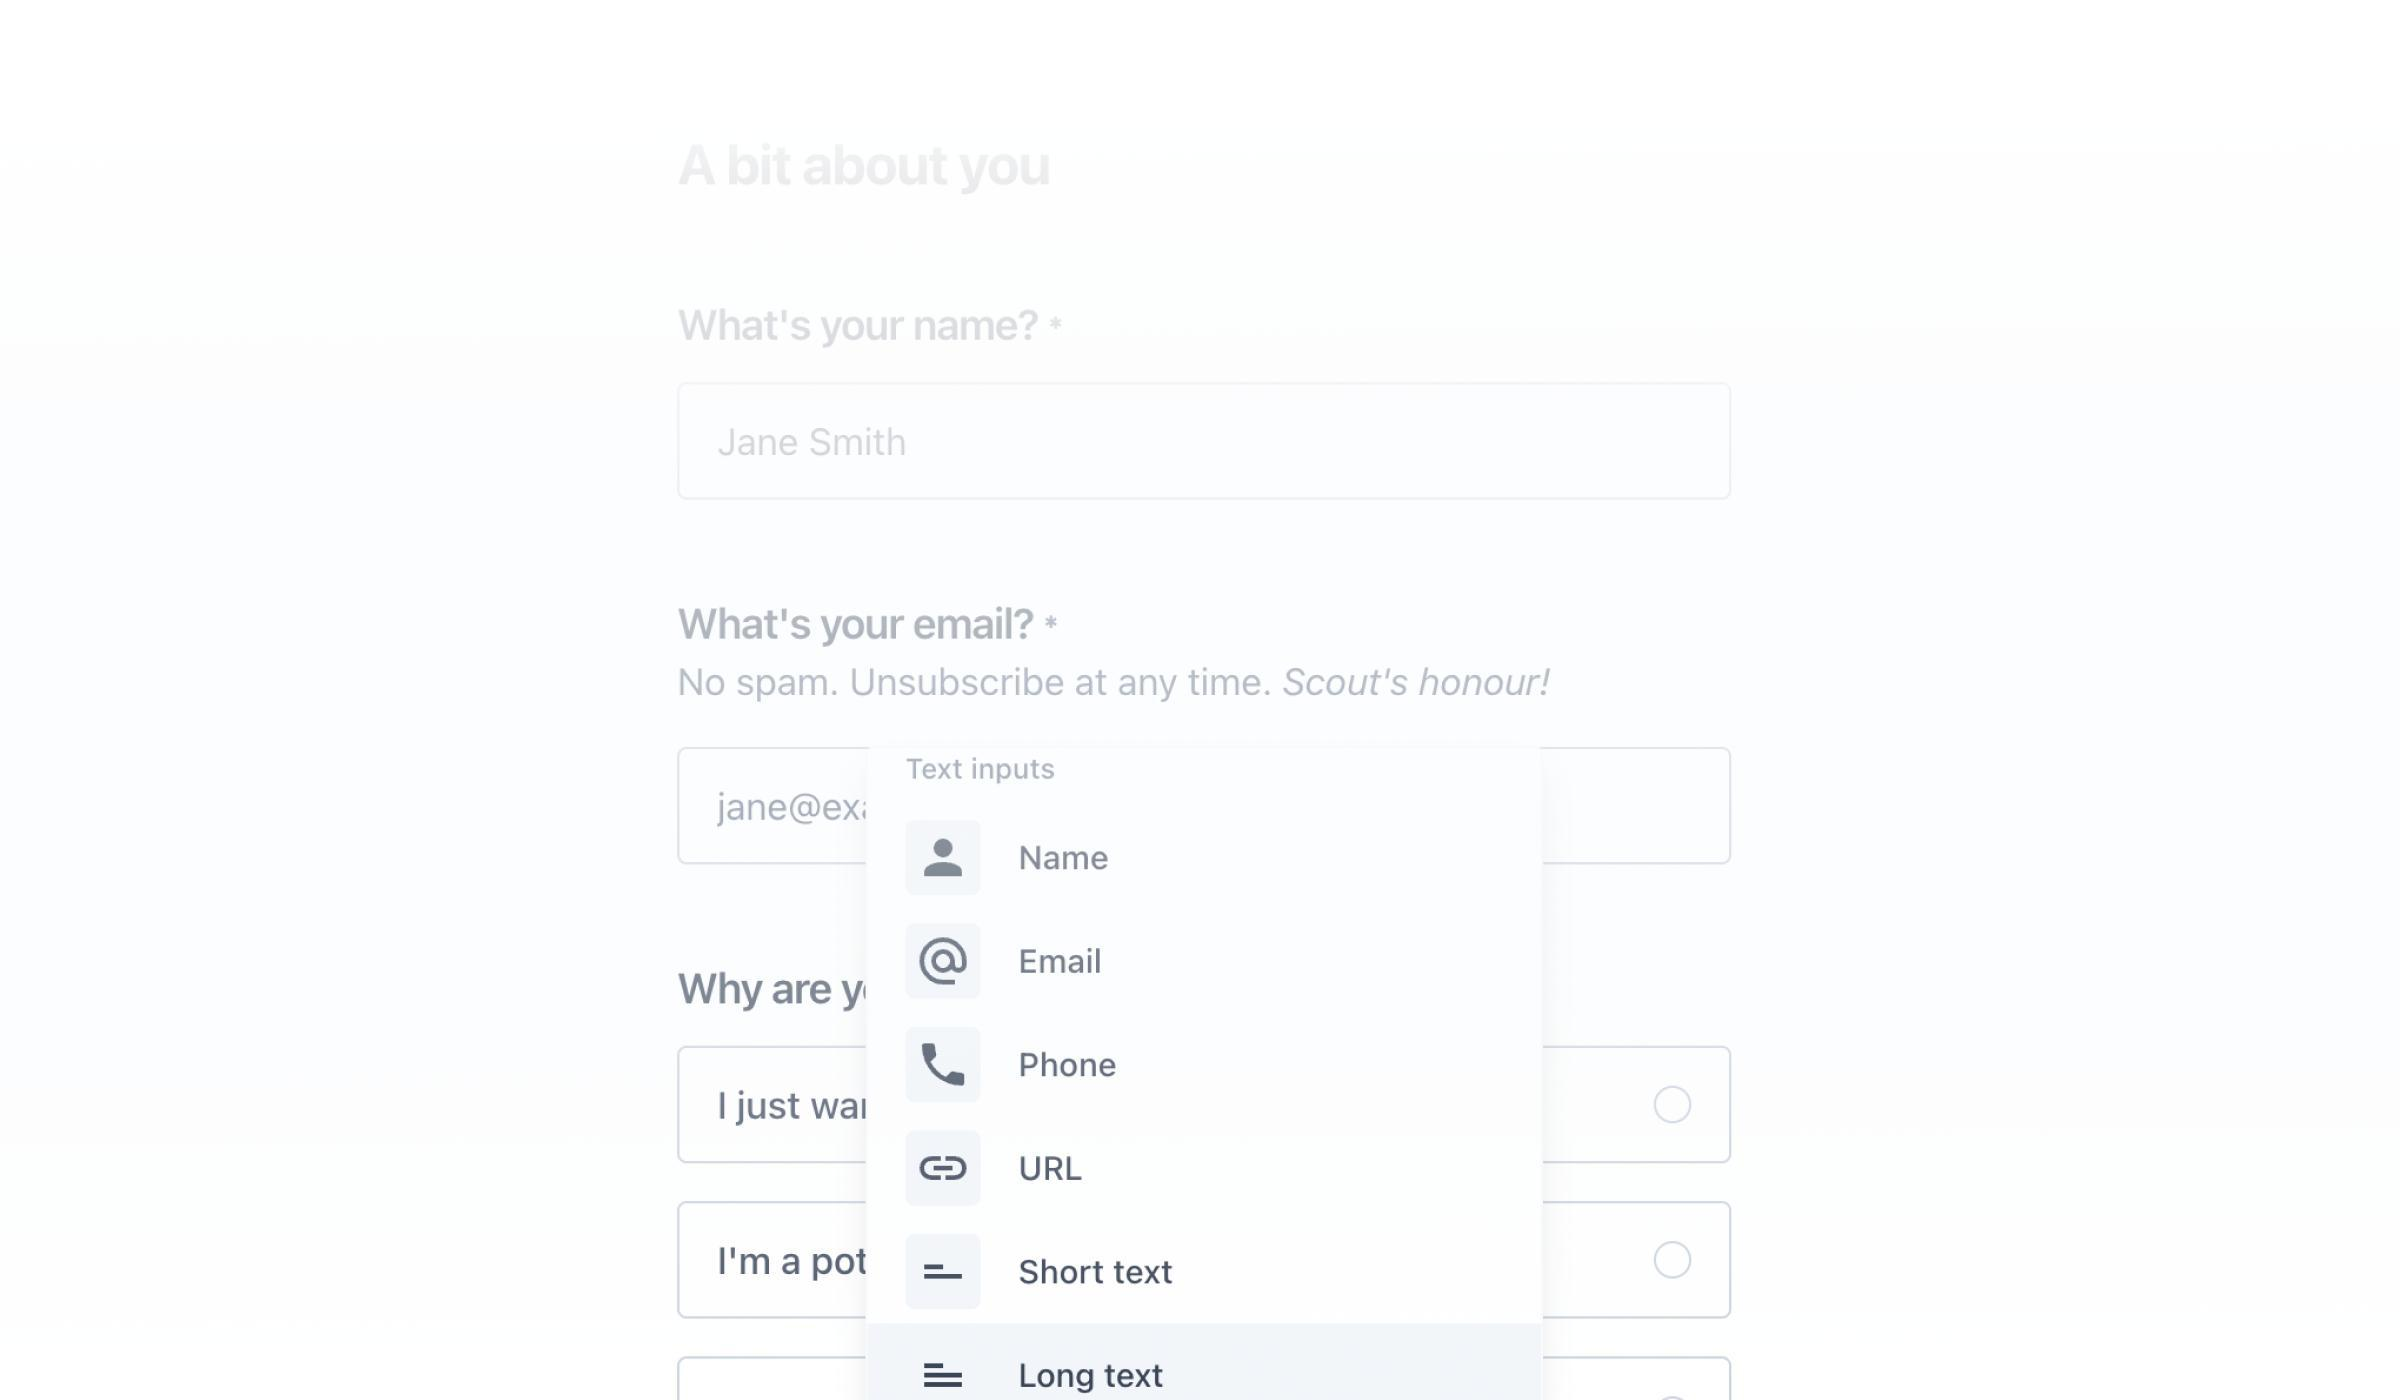icon: (917, 1037, 973, 1107), (918, 937, 972, 992), (912, 1352, 970, 1398), (918, 1252, 970, 1300), (922, 837, 970, 887), (918, 1147, 973, 1185)
input: (673, 373, 1770, 508)
label: (673, 297, 1063, 353), (1017, 1243, 1180, 1295), (1012, 1357, 1177, 1400), (1015, 837, 1118, 885), (1017, 1048, 1118, 1093), (1012, 942, 1113, 982), (1012, 1142, 1087, 1188)
